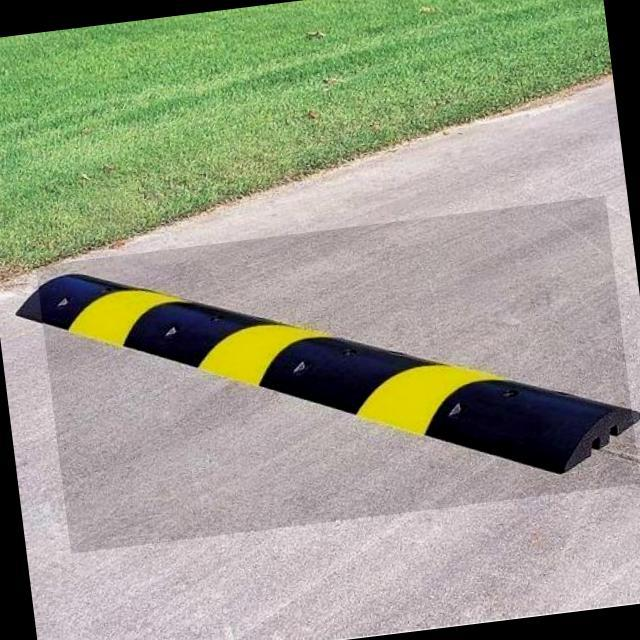speedbreaker: (36, 195, 640, 553)
